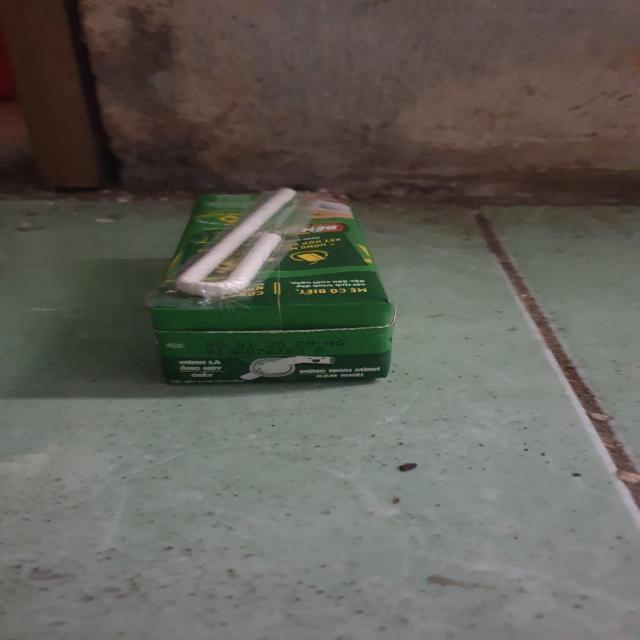Milo: (153, 187, 399, 384)
